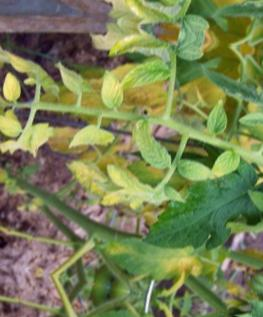Tomato leaf yellow virus: (70, 213, 230, 295), (117, 118, 176, 180), (117, 53, 177, 105), (167, 151, 232, 193), (89, 66, 132, 112)
